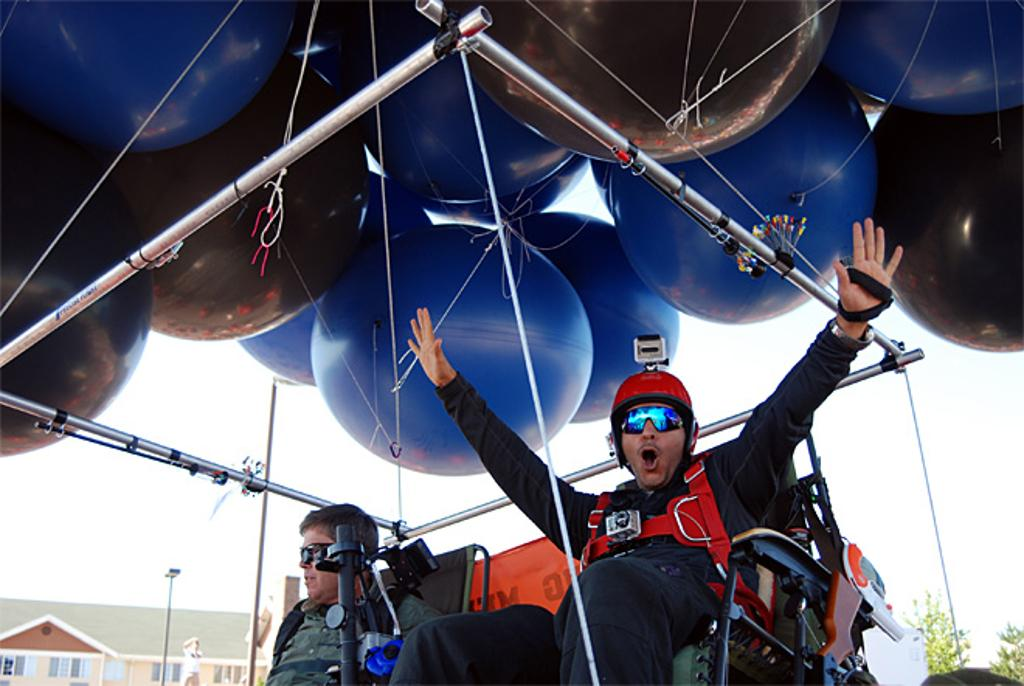face: (618, 400, 684, 486), (298, 524, 347, 597)
